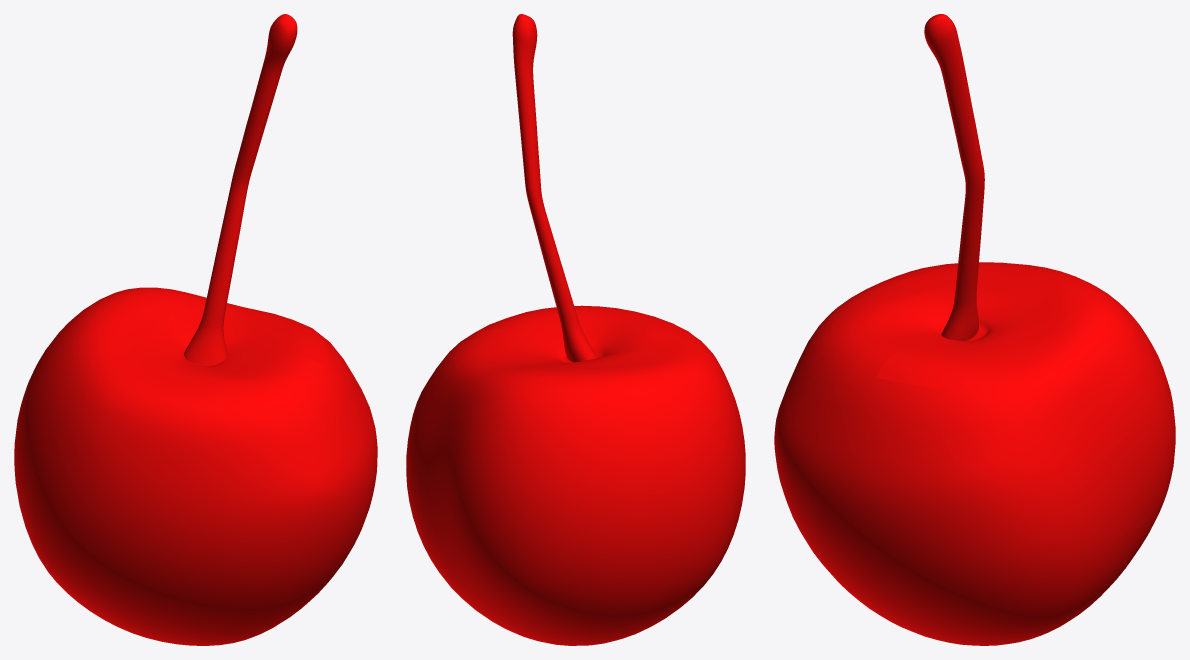
File: cherry.glb
The picture shows the model from 3 angles, left to right: view 1: azimuth 30°, elevation 25°; view 2: azimuth 150°, elevation 25°; view 3: azimuth 270°, elevation 25°; orthographic projection. The views are drawn at different scales.
Visible parts, largest first — view 1: cherry.001; view 2: cherry.001; view 3: cherry.001.
Boxes of the visible parts, bbox=[...] form: cherry.001: bbox=[14, 14, 377, 645]; cherry.001: bbox=[406, 14, 745, 645]; cherry.001: bbox=[774, 14, 1175, 645].
Bounding box in the file's own units: 2.74 × 5.05 × 2.81.
